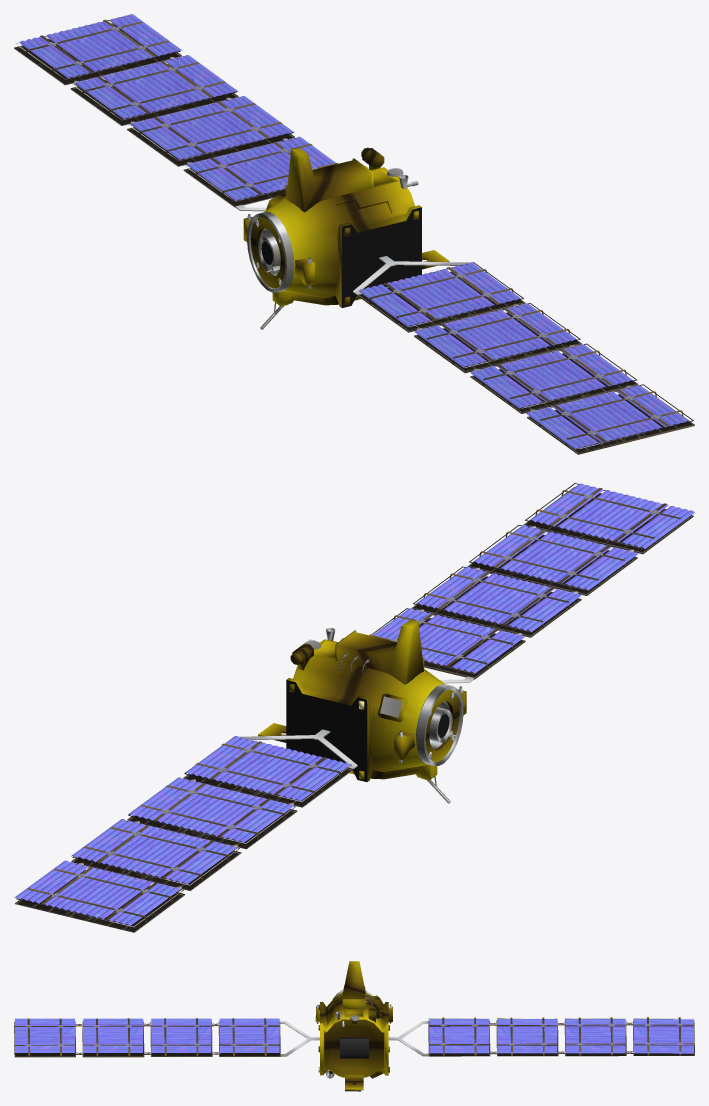
Rendered from Satellite.glb.
The picture shows the model from 3 angles, top to bottom: view 1: azimuth 30°, elevation 25°; view 2: azimuth 150°, elevation 25°; view 3: azimuth 270°, elevation 25°; orthographic projection. The views are drawn at different scales.
Parts seen in each view (by area): view 1: shiny_panel, tex_01, foil_gold, black_krinkle; view 2: shiny_panel, tex_01, foil_gold, black_krinkle; view 3: shiny_panel, tex_01, foil_gold, foil_silver.
Boxes of the visible parts, x1=… form: shiny_panel: x1=19, y1=14, x2=689, y2=449; tex_01: x1=14, y1=15, x2=694, y2=454; foil_gold: x1=243, y1=147, x2=449, y2=307; black_krinkle: x1=342, y1=207, x2=421, y2=307; shiny_panel: x1=14, y1=483, x2=694, y2=925; tex_01: x1=15, y1=483, x2=693, y2=932; foil_gold: x1=258, y1=620, x2=466, y2=781; black_krinkle: x1=286, y1=680, x2=416, y2=781; shiny_panel: x1=15, y1=1018, x2=693, y2=1053; tex_01: x1=14, y1=989, x2=694, y2=1078; foil_gold: x1=315, y1=961, x2=392, y2=1090; foil_silver: x1=340, y1=994, x2=372, y2=1091.
Bounding box in the file's own units: 2.22 × 1.96 × 11.81.
5 materials, 4 textured.
